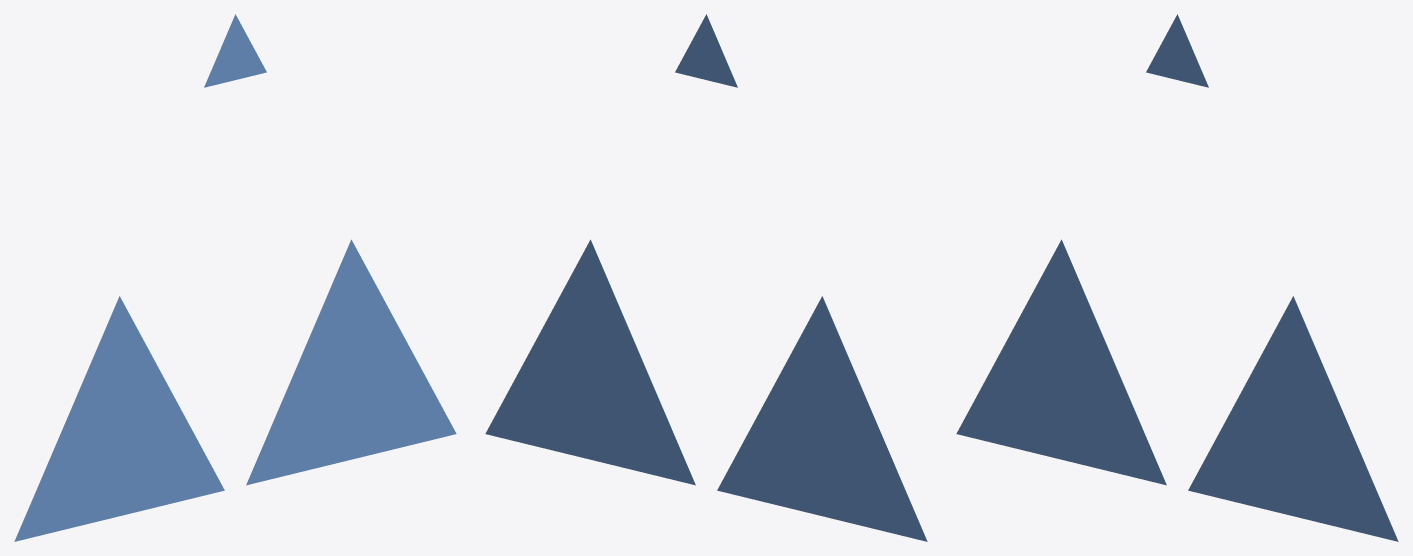
File: product.gltf
3 renders of one model, left to right at view 1: azimuth 30°, elevation 25°; view 2: azimuth 150°, elevation 25°; view 3: azimuth 330°, elevation 25°, orthographic.
Visible parts, largest first — view 1: BaseNode, AltNode, RibsNode; view 2: BaseNode, AltNode, RibsNode; view 3: AltNode, BaseNode, RibsNode.
Part boxes in pixels (left/top/right/bottom): BaseNode: left=14, top=296, right=224, bottom=541; AltNode: left=246, top=239, right=456, bottom=485; RibsNode: left=204, top=14, right=266, bottom=87; BaseNode: left=717, top=296, right=927, bottom=541; AltNode: left=485, top=239, right=695, bottom=485; RibsNode: left=675, top=14, right=737, bottom=87; AltNode: left=1188, top=296, right=1398, bottom=541; BaseNode: left=956, top=239, right=1166, bottom=485; RibsNode: left=1146, top=14, right=1208, bottom=87.
Bounding box in the file's own units: 2.1 × 2.15 × 0.
